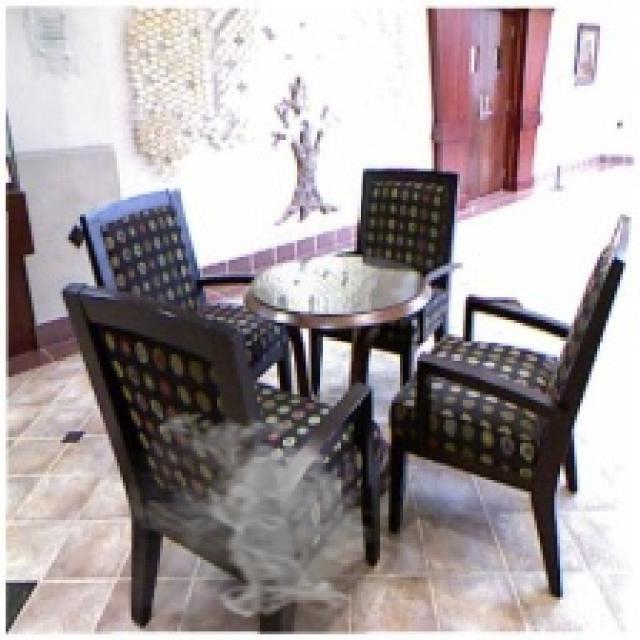Smoke: (128, 406, 378, 623)
